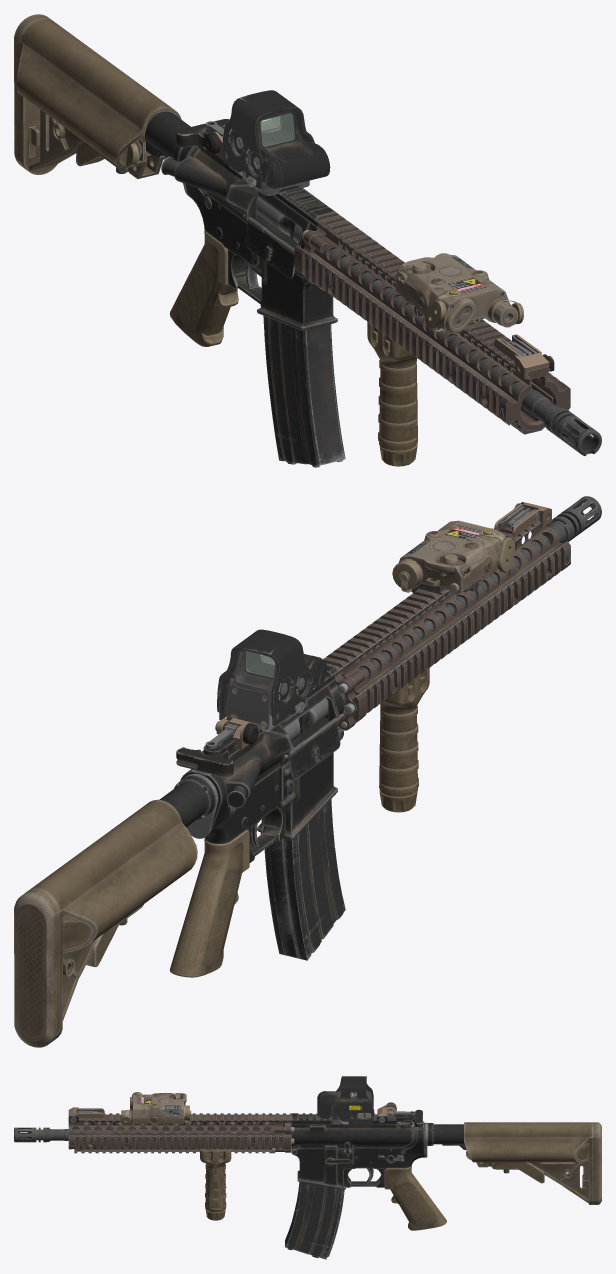
The picture shows the model from 3 angles, top to bottom: view 1: azimuth 30°, elevation 25°; view 2: azimuth 150°, elevation 25°; view 3: azimuth 270°, elevation 25°; orthographic projection. The views are drawn at different scales.
Parts seen in each view (by area): view 1: part_2_low, Fpart_1_low, Ppart_3_low, Tpart_4_low, Tpart_3_low, Spart_7_low, Tpart_5_low, part_8_low, Spart_2_low, Ppart_7_low, Fpart_4_low, Fpart_2_low (+10 smaller); view 2: part_2_low, Ppart_3_low, Fpart_1_low, Fpart_2_low, Tpart_4_low, Tpart_3_low, Spart_7_low, part_8_low, Tpart_5_low, Spart_5_low, Fpart_3_low, Tpart_2_low (+8 smaller); view 3: part_2_low, Ppart_3_low, Fpart_1_low, Tpart_4_low, Tpart_3_low, Spart_7_low, Fpart_2_low, Tpart_5_low, Ppart_2_low, Fpart_4_low, part_3_low, Ppart_7_low (+7 smaller).
Boxes of the visible parts, left/top/right/bottom form: part_2_low: left=170, top=131, right=549, bottom=467; Fpart_1_low: left=16, top=18, right=181, bottom=178; Ppart_3_low: left=294, top=212, right=570, bottom=430; Tpart_4_low: left=179, top=146, right=337, bottom=330; Tpart_3_low: left=174, top=146, right=342, bottom=289; Spart_7_low: left=222, top=90, right=314, bottom=182; Tpart_5_low: left=161, top=128, right=335, bottom=303; part_8_low: left=205, top=121, right=536, bottom=447; Spart_2_low: left=258, top=110, right=322, bottom=187; Ppart_7_low: left=302, top=230, right=601, bottom=456; Fpart_4_low: left=28, top=111, right=190, bottom=157; Fpart_2_low: left=14, top=14, right=128, bottom=172; part_2_low: left=170, top=502, right=551, bottom=977; Ppart_3_low: left=322, top=520, right=570, bottom=721; Fpart_1_low: left=28, top=799, right=197, bottom=1039; Fpart_2_low: left=14, top=747, right=185, bottom=1047; Tpart_4_low: left=180, top=717, right=339, bottom=862; Tpart_3_low: left=182, top=678, right=344, bottom=846; Spart_7_low: left=217, top=629, right=312, bottom=725; part_8_low: left=205, top=506, right=536, bottom=793; Tpart_5_low: left=203, top=665, right=343, bottom=855; Spart_5_low: left=219, top=659, right=326, bottom=730; Fpart_3_low: left=63, top=748, right=233, bottom=949; Tpart_2_low: left=174, top=698, right=328, bottom=827; part_2_low: left=68, top=1093, right=446, bottom=1259; Ppart_3_low: left=68, top=1113, right=291, bottom=1149; Fpart_1_low: left=464, top=1122, right=592, bottom=1204; Tpart_4_low: left=291, top=1121, right=425, bottom=1189; Tpart_3_low: left=291, top=1122, right=427, bottom=1183; Spart_7_low: left=332, top=1076, right=373, bottom=1122; Fpart_2_low: left=397, top=1121, right=601, bottom=1204; Tpart_5_low: left=291, top=1113, right=415, bottom=1186; Ppart_2_low: left=74, top=1130, right=275, bottom=1153; Fpart_4_low: left=431, top=1124, right=588, bottom=1189; part_3_low: left=68, top=1092, right=395, bottom=1212; Ppart_7_low: left=14, top=1127, right=294, bottom=1151.
Size of the model in its own units: 8.85 by 34.49 by 104.
5 materials, 5 textured.
